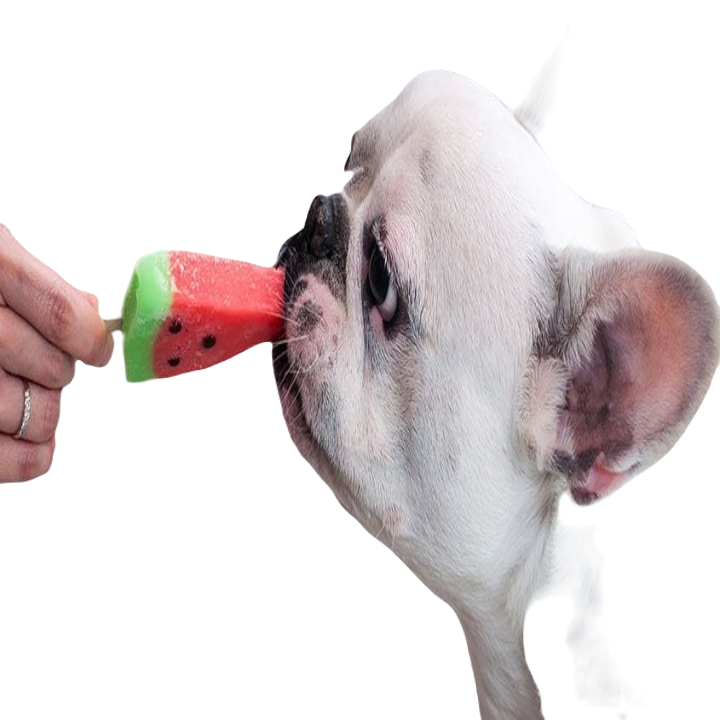Dog: (270, 45, 719, 719)
